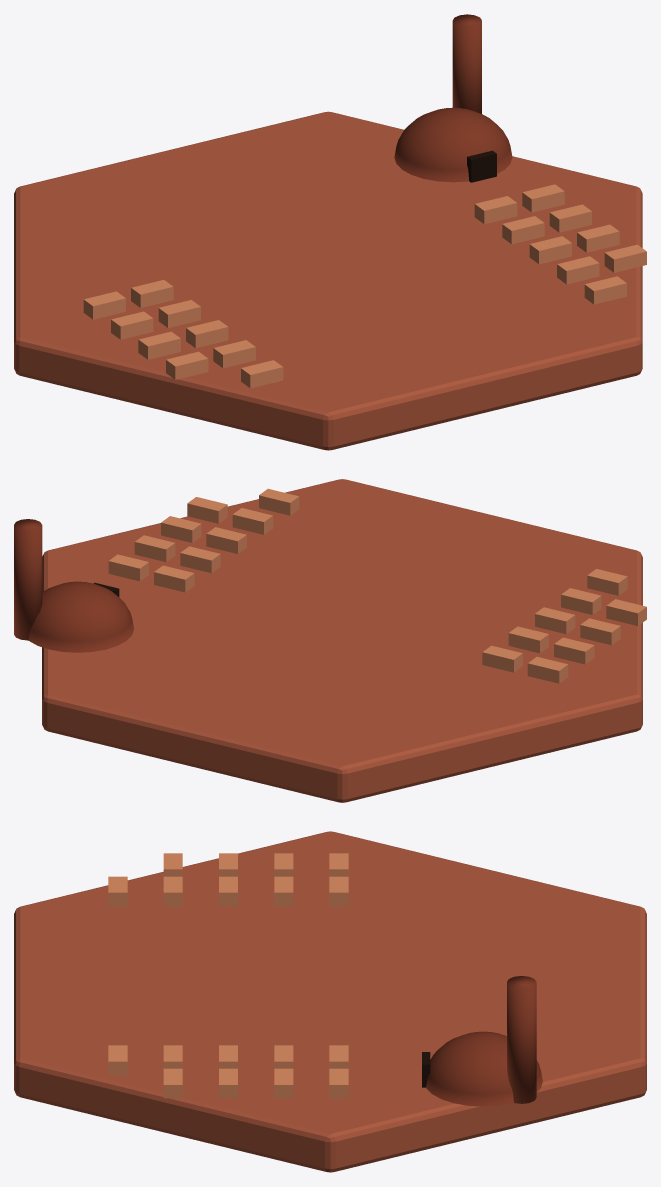
The model's file is quadra-olaria.glb.
3 renders of one model, top to bottom at view 1: azimuth 30°, elevation 25°; view 2: azimuth 150°, elevation 25°; view 3: azimuth 270°, elevation 25°, orthographic. The views are drawn at different scales.
Parts seen in each view (by area): view 1: lote, forno, chamine, tijolinho.016, tijolinho.013, tijolinho.006, tijolinho.008, tijolinho.012, tijolinho.014, tijolinho, tijolinho.002, tijolinho.005 (+10 smaller); view 2: lote, forno, chamine, tijolinho.008, tijolinho.015, tijolinho.010, tijolinho, tijolinho.013, tijolinho.001, tijolinho.005, tijolinho.007, tijolinho.011 (+9 smaller); view 3: lote, forno, chamine, tijolinho, tijolinho.007, tijolinho.017, tijolinho.001, tijolinho.005, tijolinho.011, tijolinho.015, tijolinho.009, tijolinho.003 (+1 smaller).
Part boxes in pixels (x1,y1,x2,y2): lote: (14, 111, 642, 450); forno: (394, 107, 512, 182); chamine: (452, 14, 481, 113); tijolinho.016: (474, 196, 517, 224); tijolinho.013: (577, 224, 619, 252); tijolinho.006: (111, 311, 153, 339); tijolinho.008: (83, 291, 125, 319); tijolinho.012: (529, 236, 571, 264); tijolinho.014: (502, 216, 544, 244); tijolinho: (241, 360, 283, 388); tijolinho.002: (166, 351, 208, 379); tijolinho.005: (158, 300, 200, 327); lote: (42, 479, 642, 802); forno: (28, 581, 133, 652); chamine: (14, 519, 42, 640); tijolinho.008: (527, 656, 568, 683); tijolinho.015: (134, 535, 175, 561); tijolinho.010: (232, 508, 273, 534); tijolinho: (587, 569, 627, 595); tijolinho.013: (161, 516, 201, 542); tijolinho.001: (561, 588, 601, 614); tijolinho.005: (508, 626, 548, 653); tijolinho.007: (482, 645, 522, 672); tijolinho.011: (187, 497, 227, 523); lote: (14, 831, 646, 1172); forno: (426, 1031, 542, 1106); chamine: (507, 976, 536, 1103); tijolinho: (108, 876, 127, 906); tijolinho.007: (329, 876, 348, 906); tijolinho.017: (329, 1068, 348, 1098); tijolinho.001: (163, 876, 182, 906); tijolinho.005: (274, 876, 293, 906); tijolinho.011: (163, 1068, 182, 1098); tijolinho.015: (274, 1068, 293, 1098); tijolinho.009: (108, 1045, 127, 1074); tijolinho.003: (219, 876, 237, 906).
Size of the model in its own units: 1.71 by 0.4 by 1.49.
